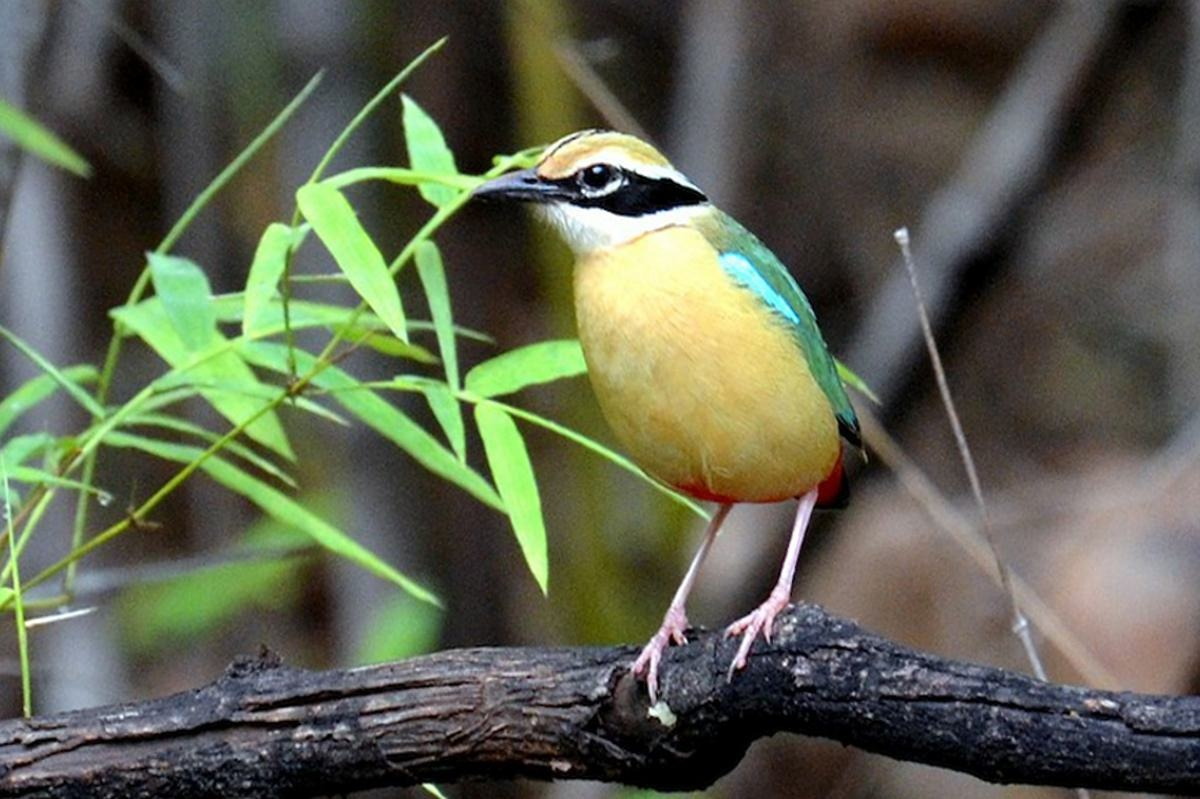pitta: (445, 105, 880, 671)
